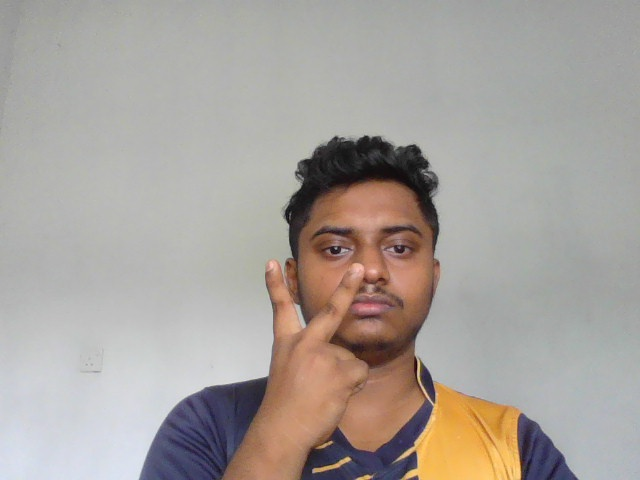See You: (250, 259, 373, 454)
